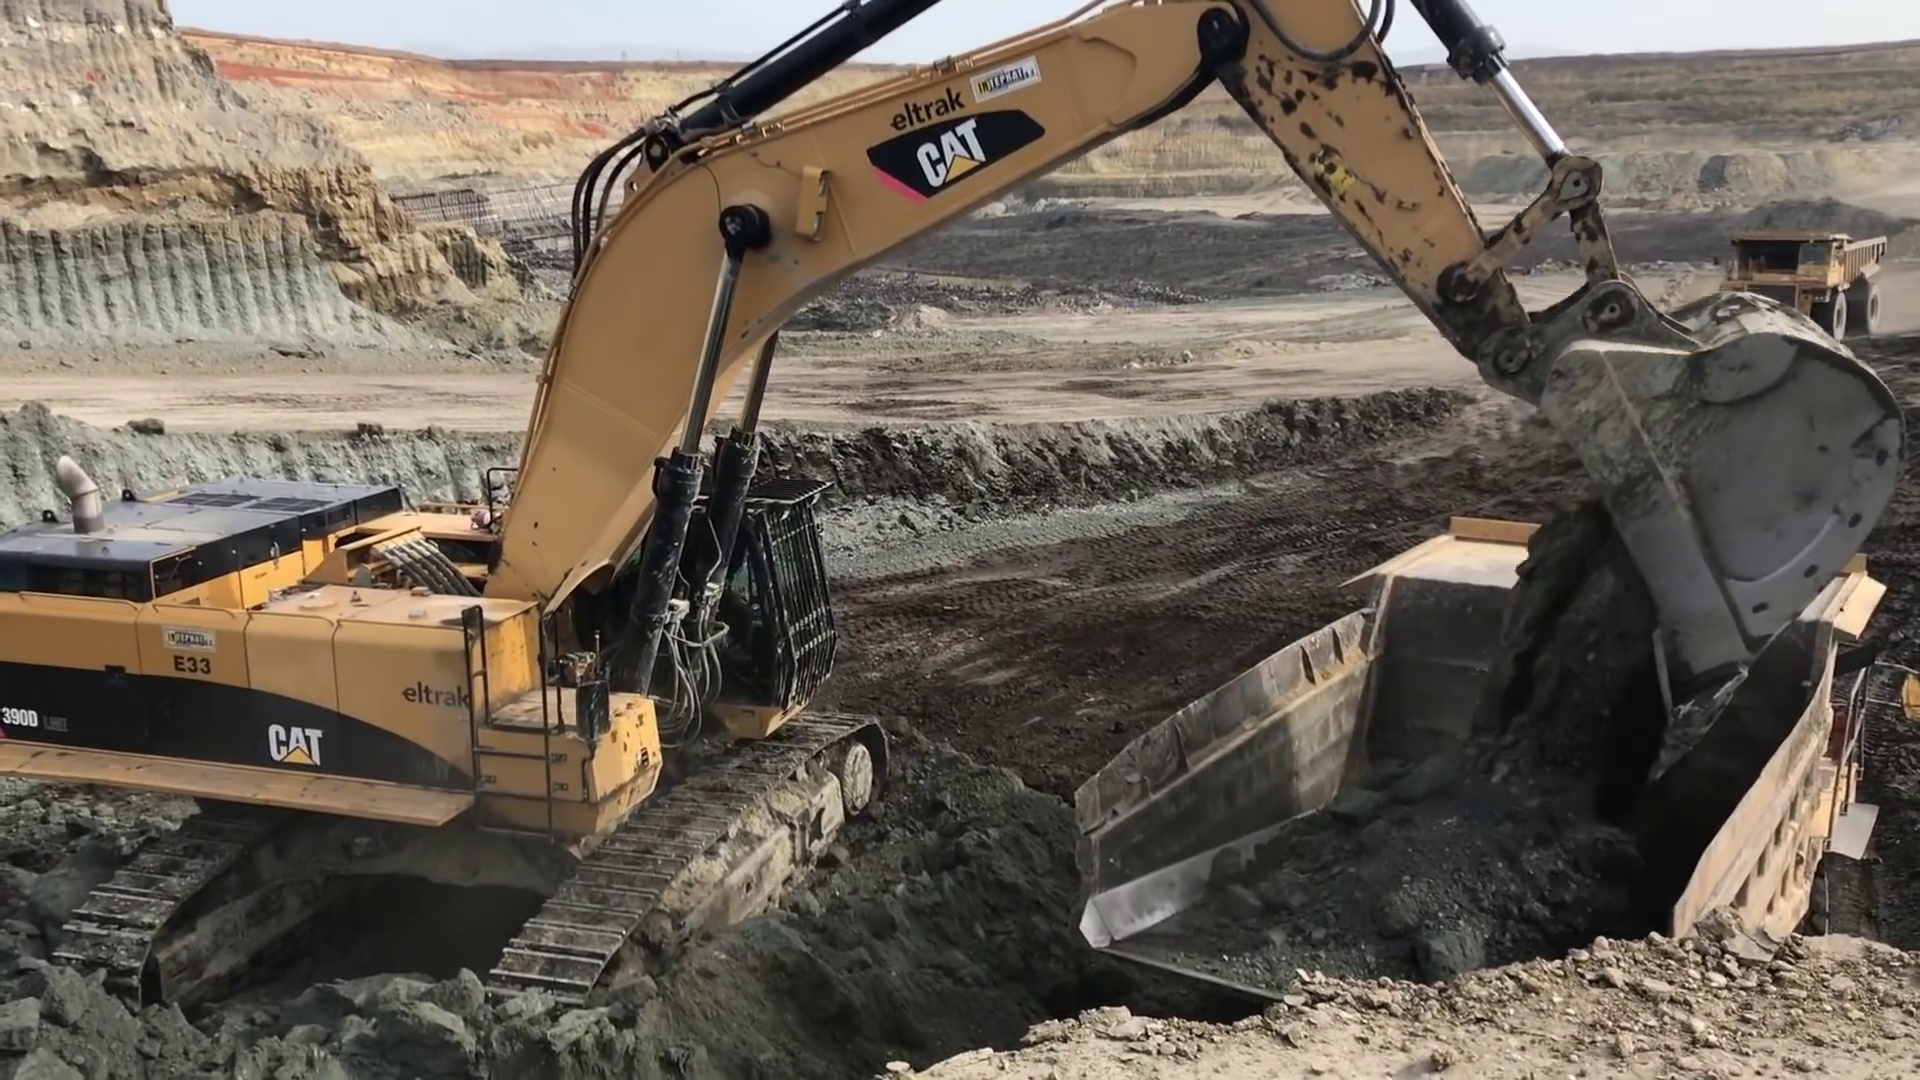dumper: (1065, 509, 1891, 1027), (1720, 229, 1888, 345)
excavator: (7, 17, 1920, 1075)
